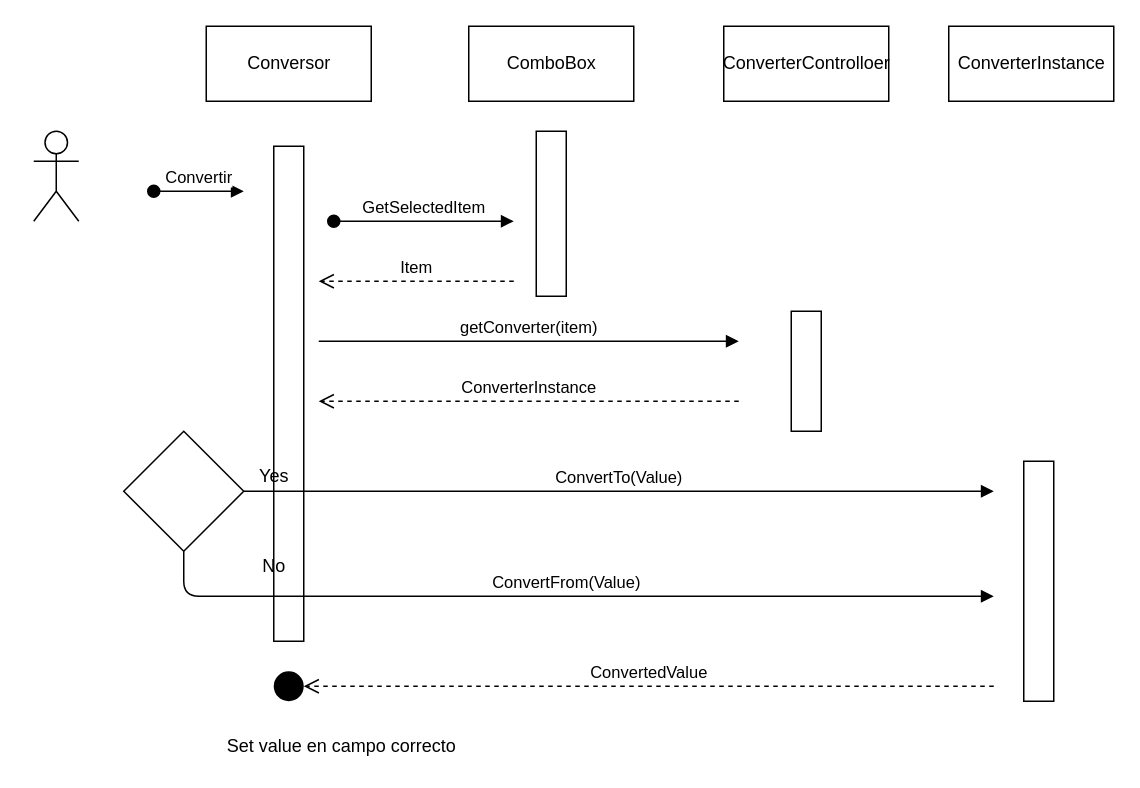
Some shapes in this 1140 by 788 pixel diagram are drawn without their labels. Each missing label, with the box of its shape:
ConvertTo?: (122, 430, 244, 551)
Usuario: (32, 130, 79, 221)
